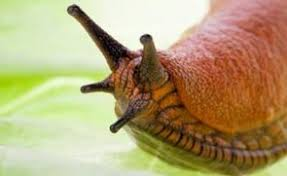slug: (68, 2, 286, 168)
